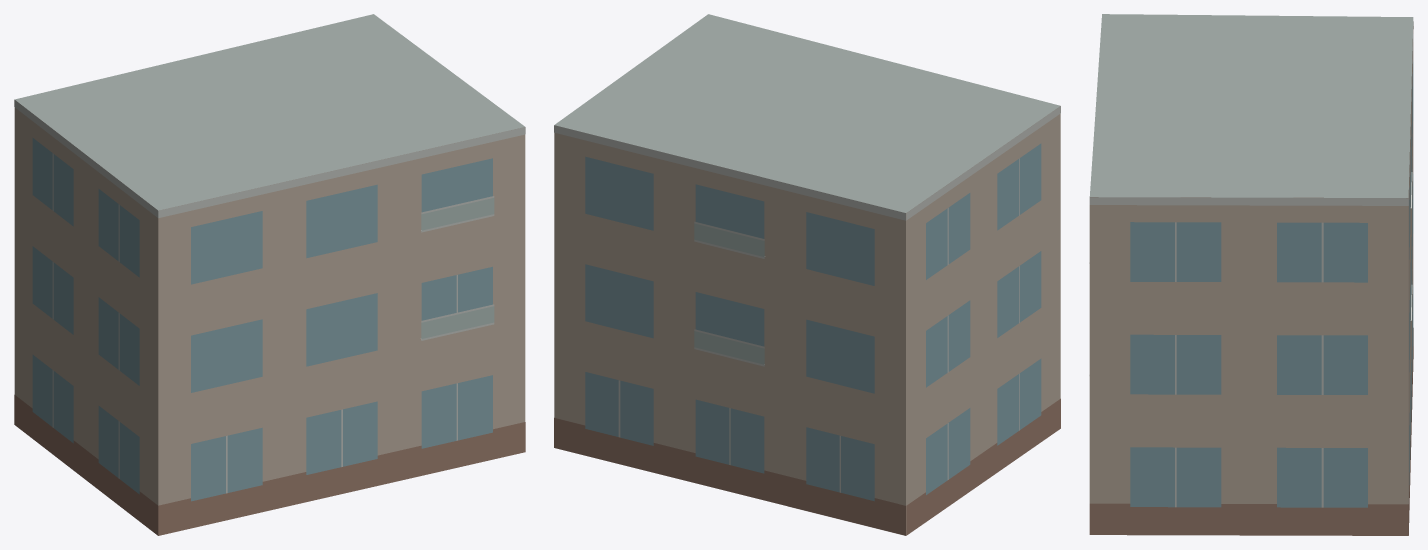
Rendered from survey-upis-32607221.glb.
The picture shows the model from 3 angles, left to right: view 1: azimuth 30°, elevation 25°; view 2: azimuth 150°, elevation 25°; view 3: azimuth 270°, elevation 25°; orthographic projection. The views are drawn at different scales.
Parts seen in each view (by area): view 1: survey-upis-32607221.tmp; view 2: survey-upis-32607221.tmp; view 3: survey-upis-32607221.tmp.
Boxes of the visible parts, x1=… form: survey-upis-32607221.tmp: x1=14, y1=14, x2=525, y2=535; survey-upis-32607221.tmp: x1=554, y1=14, x2=1060, y2=535; survey-upis-32607221.tmp: x1=1089, y1=14, x2=1413, y2=535.
Size of the model in its own units: 12.16 by 10.4 by 9.05.
